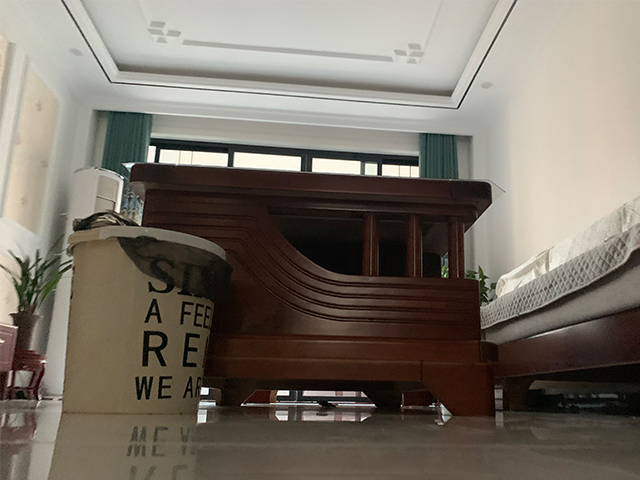sofa: (479, 195, 640, 412)
table: (128, 162, 494, 418)
trashcan: (61, 222, 227, 415)
